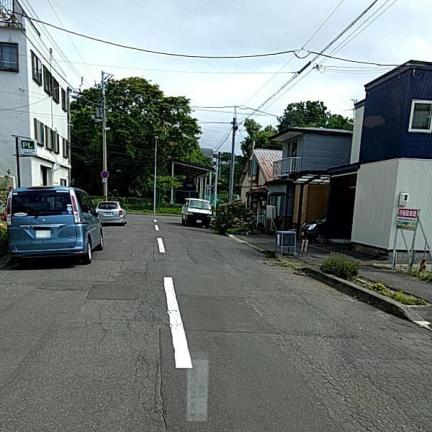Road: (0, 216, 431, 431)
